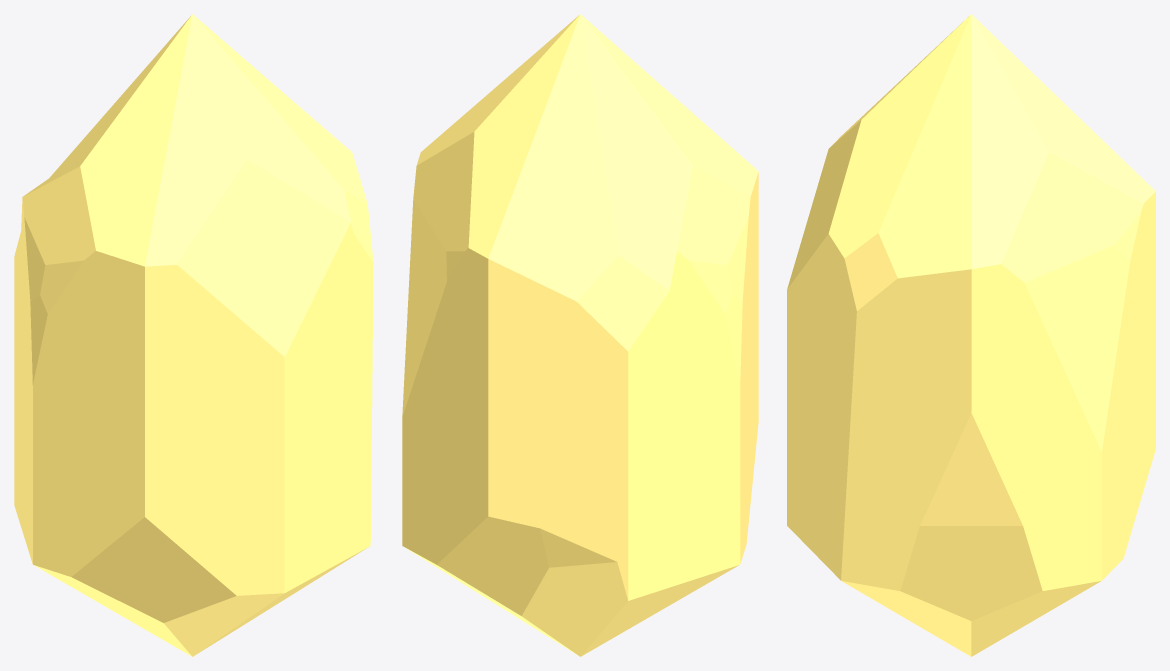
Rendered from sandalrecine.fbx.
The picture shows the model from 3 angles, left to right: view 1: azimuth 30°, elevation 25°; view 2: azimuth 150°, elevation 25°; view 3: azimuth 270°, elevation 25°; orthographic projection.
Parts seen in each view (by area): view 1: Cylinder; view 2: Cylinder; view 3: Cylinder.
Boxes of the visible parts, x1,y1,x2,y2 form: Cylinder: (14,14,373,656); Cylinder: (402,14,758,656); Cylinder: (787,14,1155,656).
Size of the model in its own units: 9.79 by 18.82 by 9.79.
